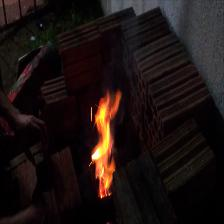fire: (73, 73, 136, 206)
